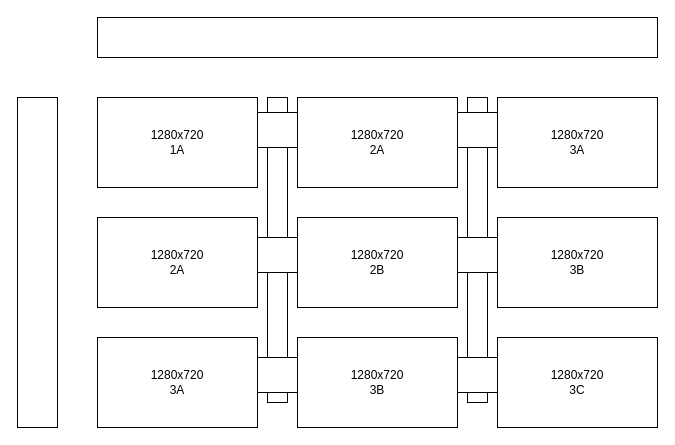
Some shapes in this 675 by 445 pixel diagram are drawn without their labels. Each missing label, with the box of its shape:
2160 px: (16, 96, 58, 428)
3840 px: (96, 16, 658, 58)
